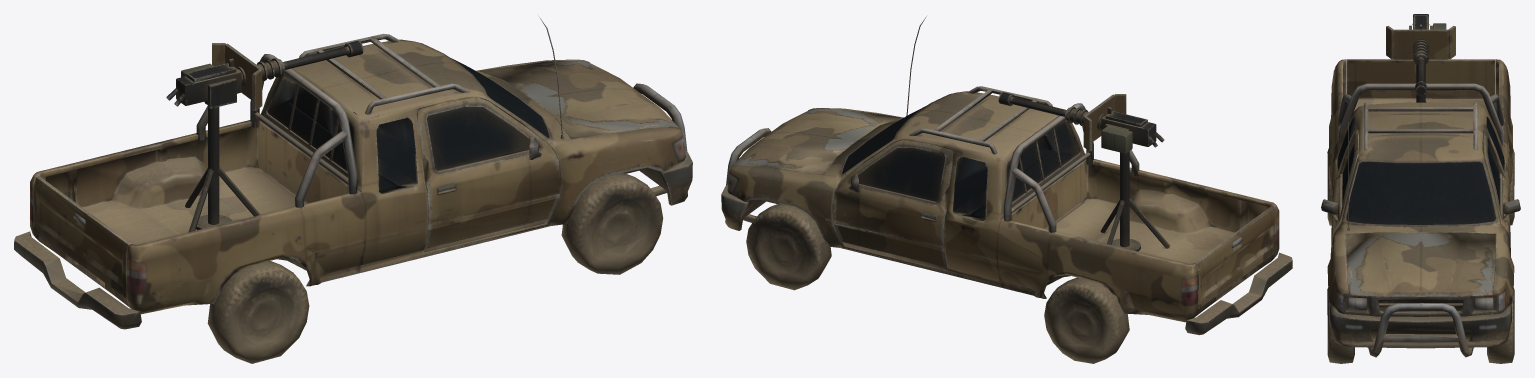
The model's file is fh_battle_e_convoy_technical.glb.
The picture shows the model from 3 angles, left to right: view 1: azimuth 30°, elevation 25°; view 2: azimuth 150°, elevation 25°; view 3: azimuth 270°, elevation 25°; orthographic projection. The views are drawn at different scales.
Parts seen in each view (by area): view 1: convoy_technical, wheel_1r, wheel_fr, turret; view 2: convoy_technical, wheel_1l, wheel_fl, turret; view 3: convoy_technical, turret, wheel_fl, wheel_fr, wheel_1l, wheel_1r.
Part boxes in pixels (x1,y1,x2,y2): convoy_technical: (14,17,692,329); wheel_1r: (207,261,309,363); wheel_fr: (561,172,663,274); turret: (166,40,363,110); convoy_technical: (721,16,1292,335); wheel_1l: (1044,277,1129,363); wheel_fl: (746,203,831,290); turret: (998,92,1164,153); convoy_technical: (1321,59,1520,357); turret: (1386,14,1455,96); wheel_fl: (1487,288,1514,363); wheel_fr: (1327,287,1354,363); wheel_1l: (1510,148,1514,225); wheel_1r: (1327,148,1331,225).
Bounding box in the file's own units: 1 × 0.4349 × 0.3618.
Materials: 2 (2 with a texture image).
